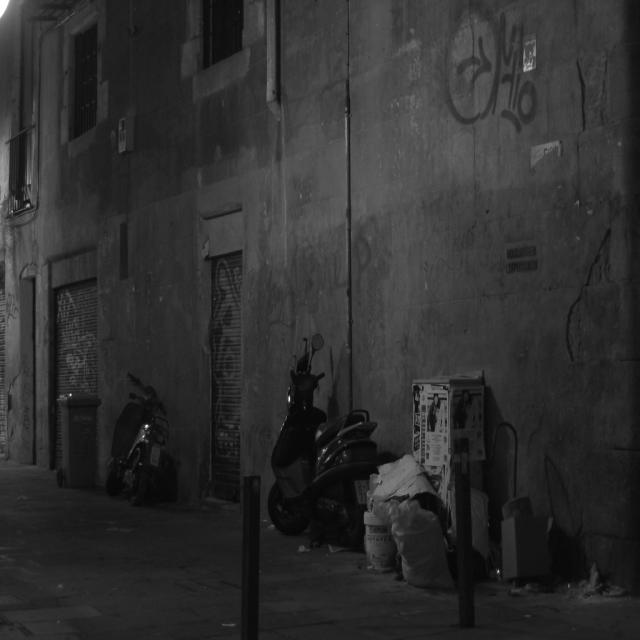Motorbike: (262, 332, 385, 544), (111, 367, 186, 495)
